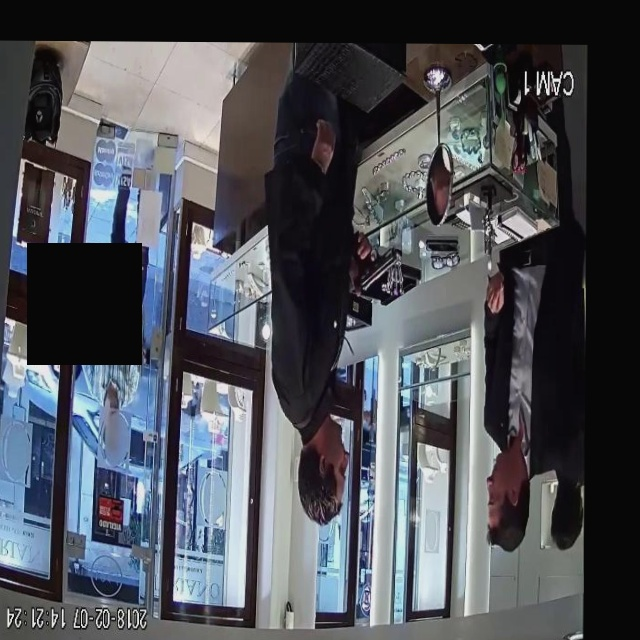gun: (349, 224, 407, 315)
